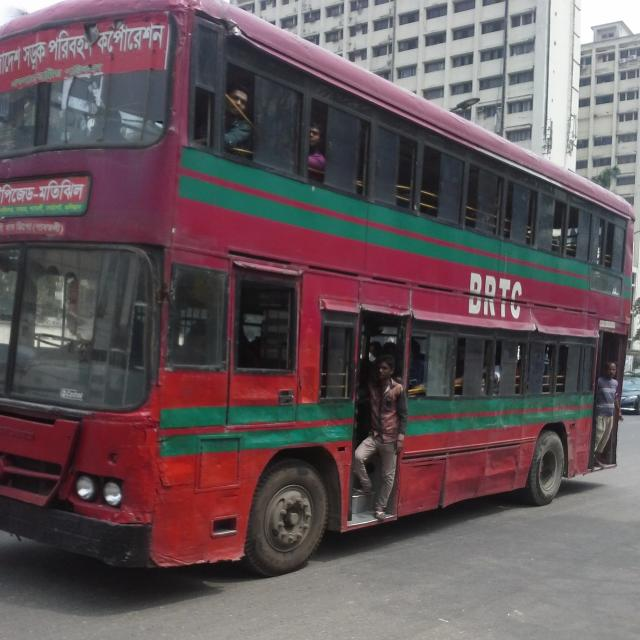Double decker: (3, 1, 633, 584)
